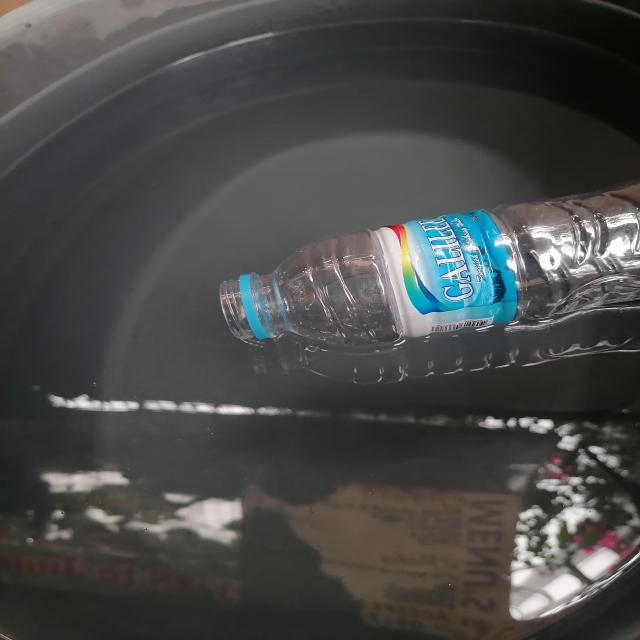Plastic Bottle: (200, 165, 640, 376)
